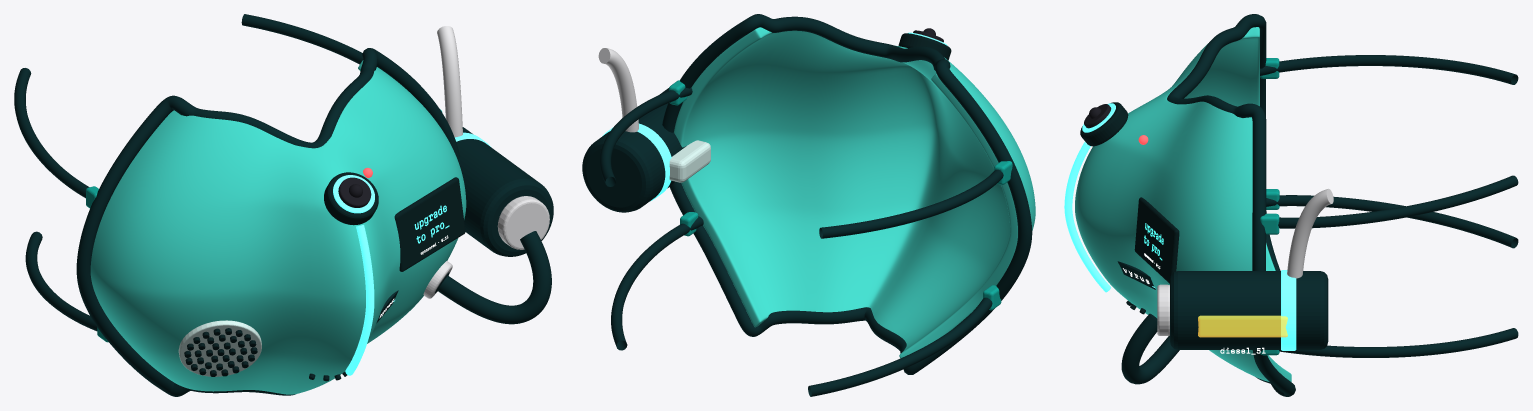
File: mask.glb
The picture shows the model from 3 angles, left to right: view 1: azimuth 30°, elevation 25°; view 2: azimuth 150°, elevation 25°; view 3: azimuth 270°, elevation 25°; orthographic projection. The views are drawn at different scales.
Parts seen in each view (by area): view 1: Vyrus_Shell, Vyrus_FaceSeal, Vyrus_DieselCanister, Vyrus_AdScreenBezel, Vyrus_FumeHose, Vyrus_SpeakerPlate, Vyrus_FuelCap, Vyrus_ExhaustStack, Vyrus_StrapTopL, Vyrus_StrapTopR, Vyrus_StrapBotL, Vyrus_KeelLED (+3 smaller); view 2: Vyrus_Shell, Vyrus_FaceSeal, Vyrus_DieselCanister, Vyrus_StrapBotL, Vyrus_StrapTopL, Vyrus_StrapBotR, Vyrus_StrapTopR, Vyrus_ExhaustStack, Vyrus_CanisterMount, Vyrus_CanisterBand, Vyrus_CamHousing; view 3: Vyrus_Shell, Vyrus_DieselCanister, Vyrus_FaceSeal, Vyrus_StrapTopL, Vyrus_StrapTopR, Vyrus_StrapBotR, Vyrus_AdScreenBezel, Vyrus_StrapBotL, Vyrus_FumeHose, Vyrus_FuelWindow, Vyrus_ExhaustStack, Vyrus_KeelLED (+3 smaller).
Part boxes in pixels (x1,y1,x2,y2): Vyrus_Shell: (90, 60, 466, 394); Vyrus_FaceSeal: (76, 48, 459, 396); Vyrus_DieselCanister: (456, 127, 553, 256); Vyrus_AdScreenBezel: (394, 177, 465, 271); Vyrus_FumeHose: (437, 231, 551, 324); Vyrus_SpeakerPlate: (178, 320, 261, 376); Vyrus_FuelCap: (497, 196, 549, 249); Vyrus_ExhaustStack: (437, 26, 462, 137); Vyrus_StrapTopL: (14, 68, 89, 198); Vyrus_StrapTopR: (241, 14, 363, 64); Vyrus_StrapBotL: (25, 231, 97, 331); Vyrus_KeelLED: (345, 225, 374, 375); Vyrus_Shell: (674, 27, 1035, 358); Vyrus_FaceSeal: (662, 14, 1032, 374); Vyrus_DieselCanister: (582, 88, 686, 212); Vyrus_StrapBotL: (808, 297, 992, 396); Vyrus_StrapTopL: (819, 169, 1003, 238); Vyrus_StrapBotR: (611, 216, 703, 350); Vyrus_StrapTopR: (600, 87, 692, 186); Vyrus_ExhaustStack: (598, 48, 638, 132); Vyrus_CanisterMount: (669, 140, 710, 182); Vyrus_CanisterBand: (602, 123, 671, 201); Vyrus_CamHousing: (898, 33, 951, 60); Vyrus_Shell: (1075, 27, 1291, 381); Vyrus_DieselCanister: (1170, 271, 1328, 349); Vyrus_FaceSeal: (1167, 14, 1295, 396); Vyrus_StrapTopL: (1260, 55, 1518, 84); Vyrus_StrapTopR: (1278, 175, 1518, 228); Vyrus_StrapBotR: (1279, 328, 1518, 357); Vyrus_AdScreenBezel: (1134, 197, 1179, 283); Vyrus_StrapBotL: (1266, 195, 1518, 248); Vyrus_FumeHose: (1121, 313, 1179, 384); Vyrus_FuelWindow: (1198, 315, 1287, 337); Vyrus_ExhaustStack: (1287, 188, 1333, 278); Vyrus_KeelLED: (1064, 142, 1110, 292).
Bounding box in the file's own units: 2.4 × 1.67 × 2.3.
